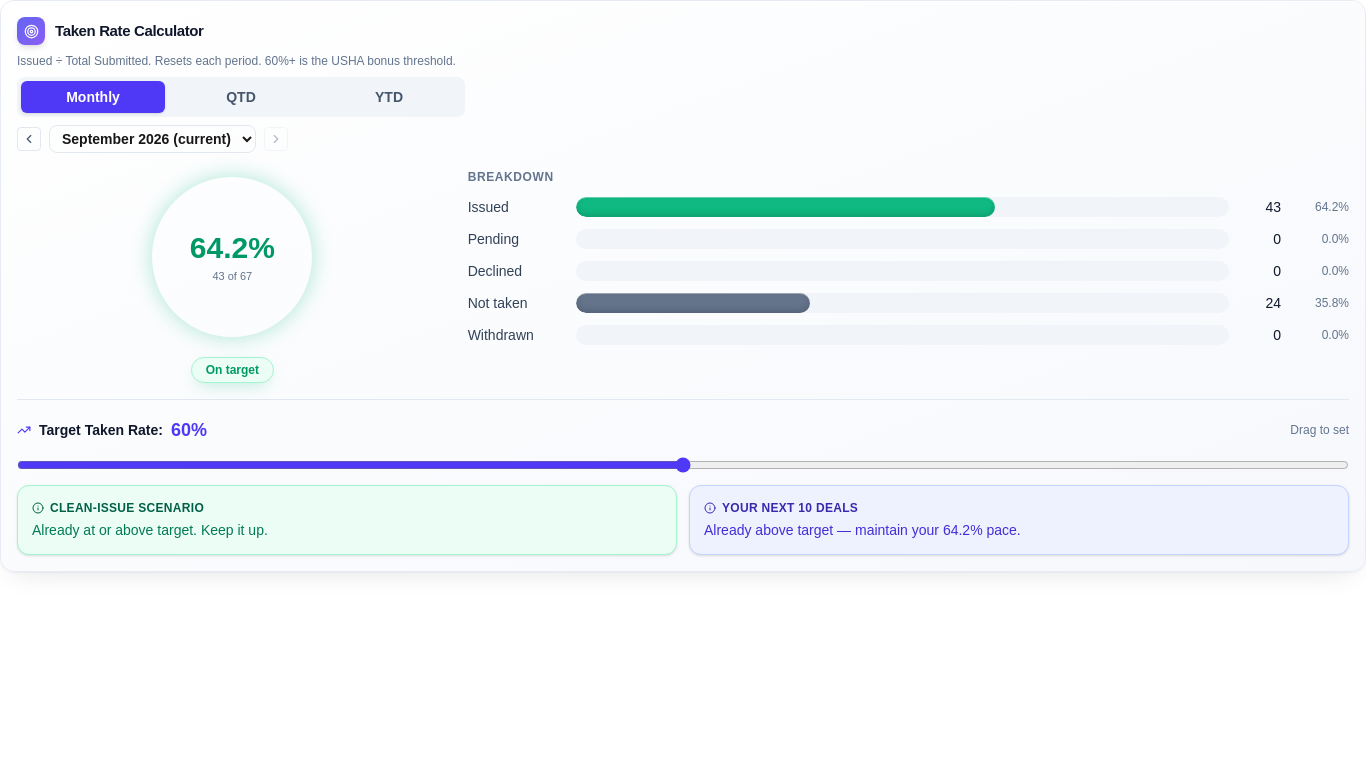
clean-issue panel: 43/67 @66% needs exactly 4; @68% exactly 8 (the shipped bug said 9)
Set the slider to "66". click: (815, 465)
box: [17, 457, 1349, 473]
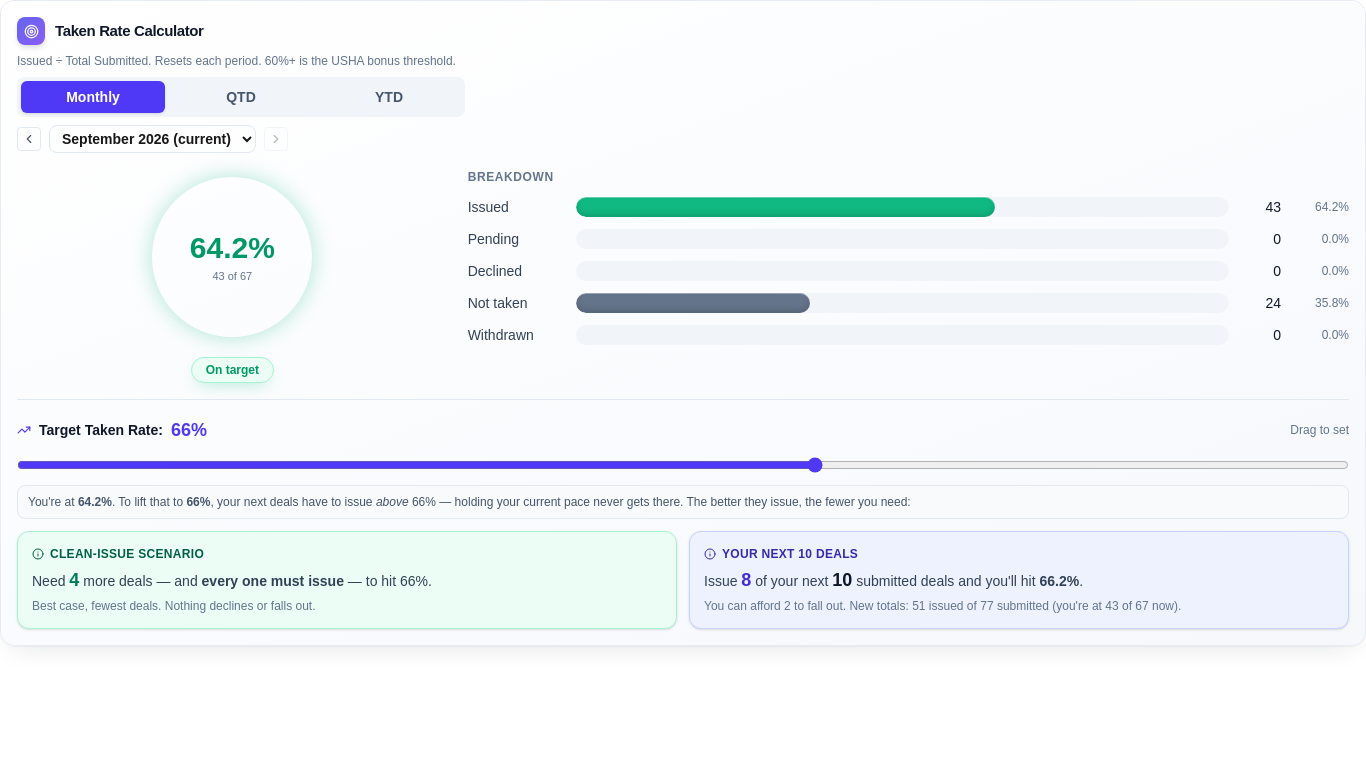
Check: the text "4" is shown, box [69, 570, 79, 590]
Check: the text "to hit 66%" is shown, box [32, 570, 432, 613]
Set the slider to "68". click: (858, 465)
box: [17, 457, 1349, 473]
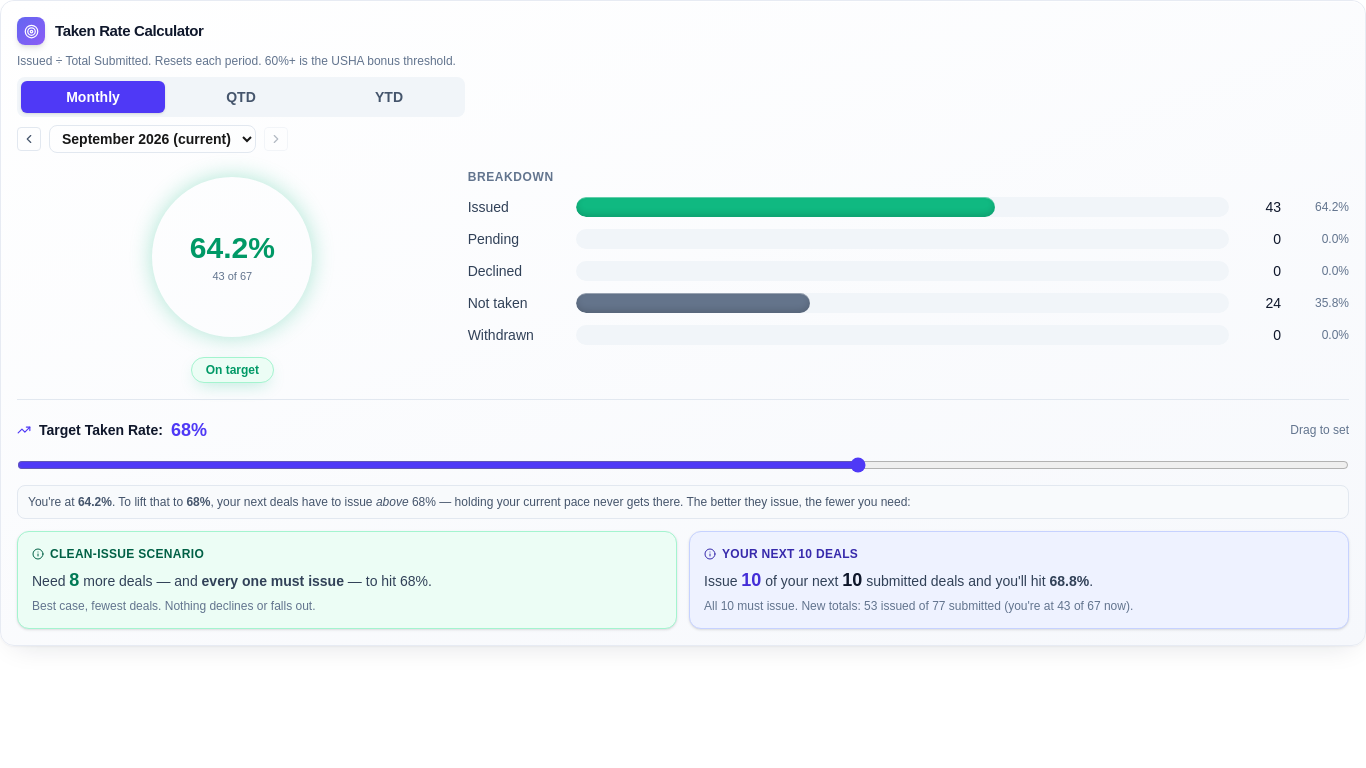
Check: the text "8" is shown, box [69, 570, 79, 590]
Check: the text "to hit 68%" is shown, box [32, 570, 432, 613]
